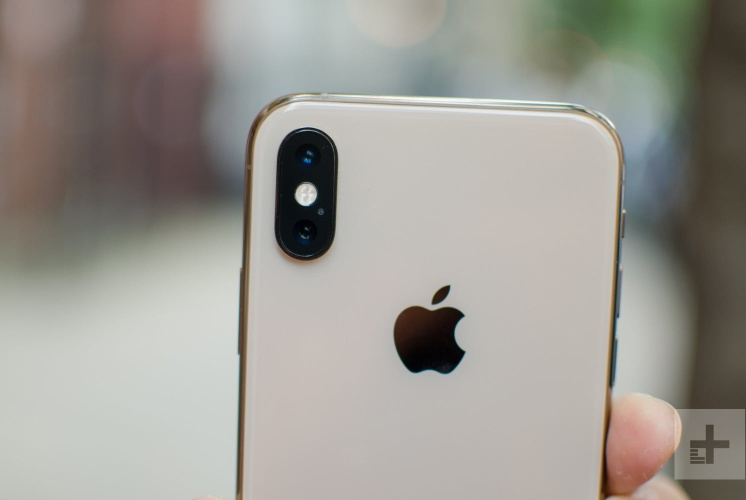apple: (385, 267, 519, 400)
